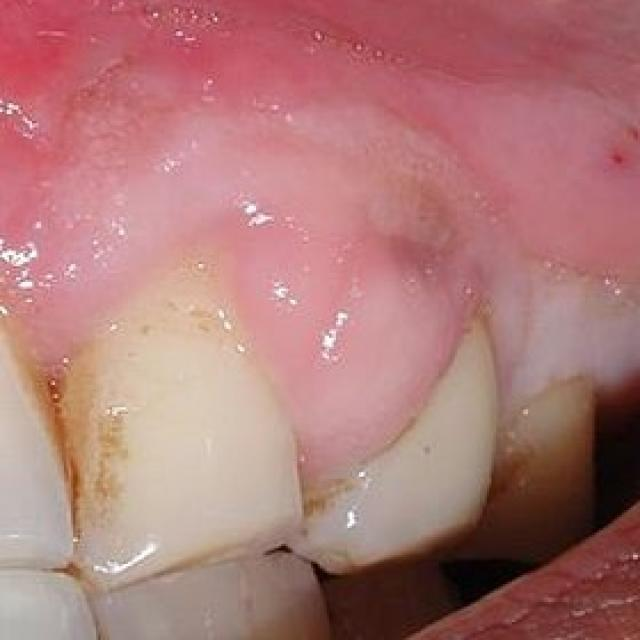abscess: (181, 149, 472, 524)
